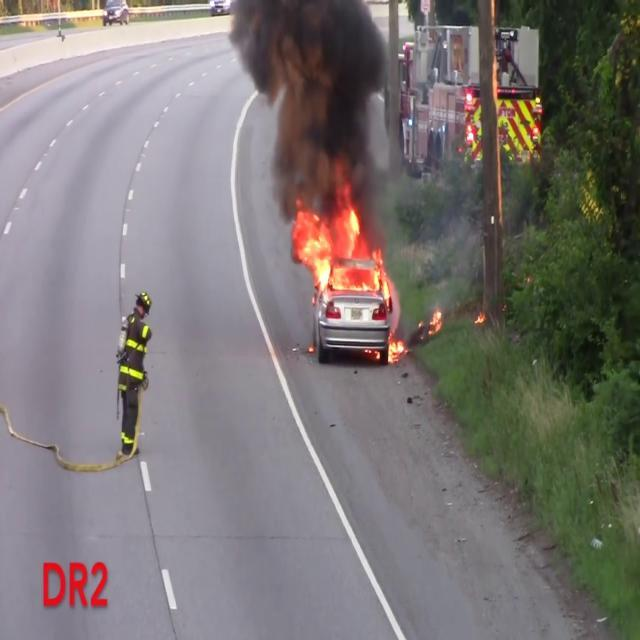Fire: (292, 182, 406, 364)
Smoke: (227, 0, 389, 254)
